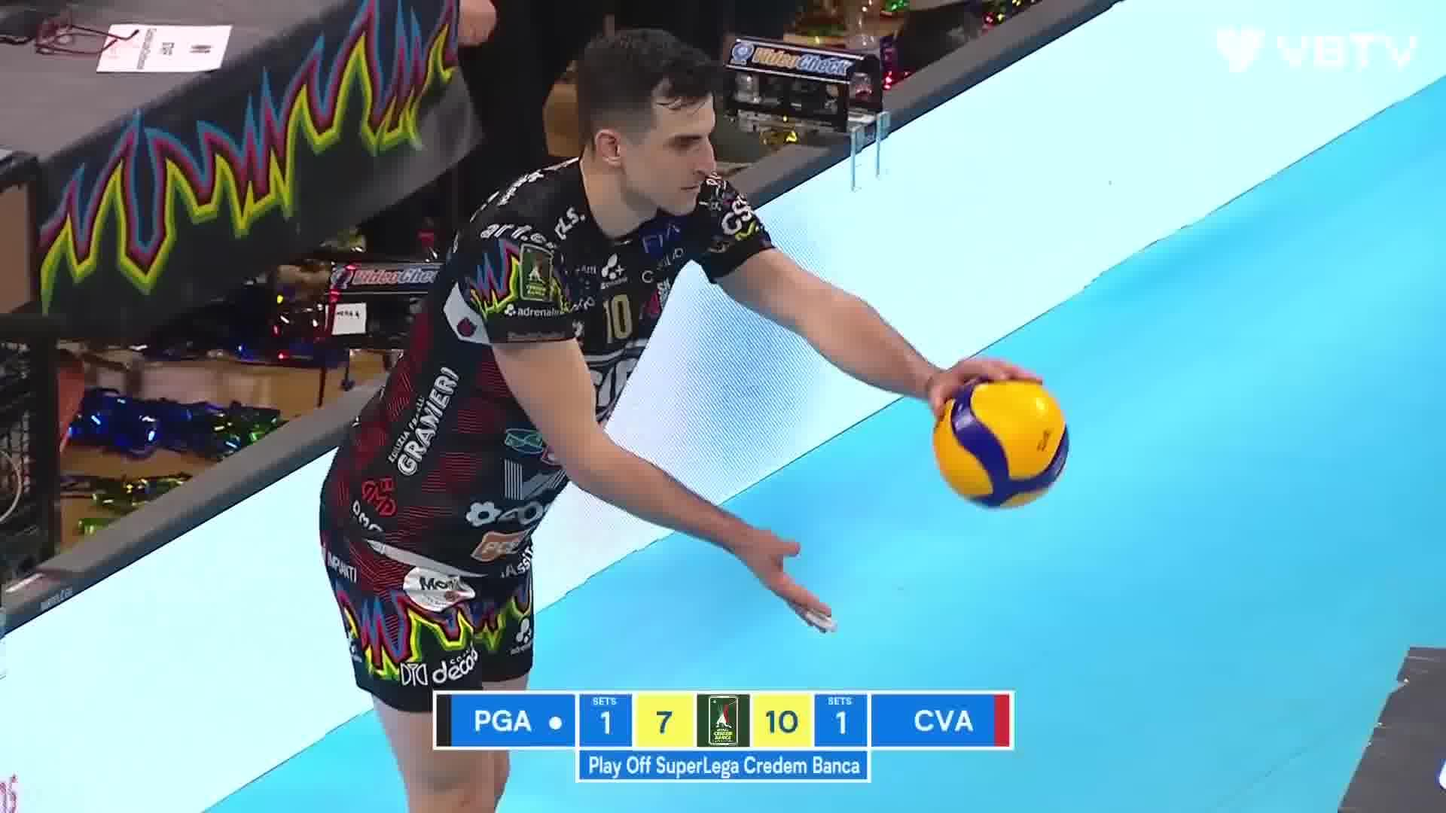balls: (932, 376, 1074, 513)
